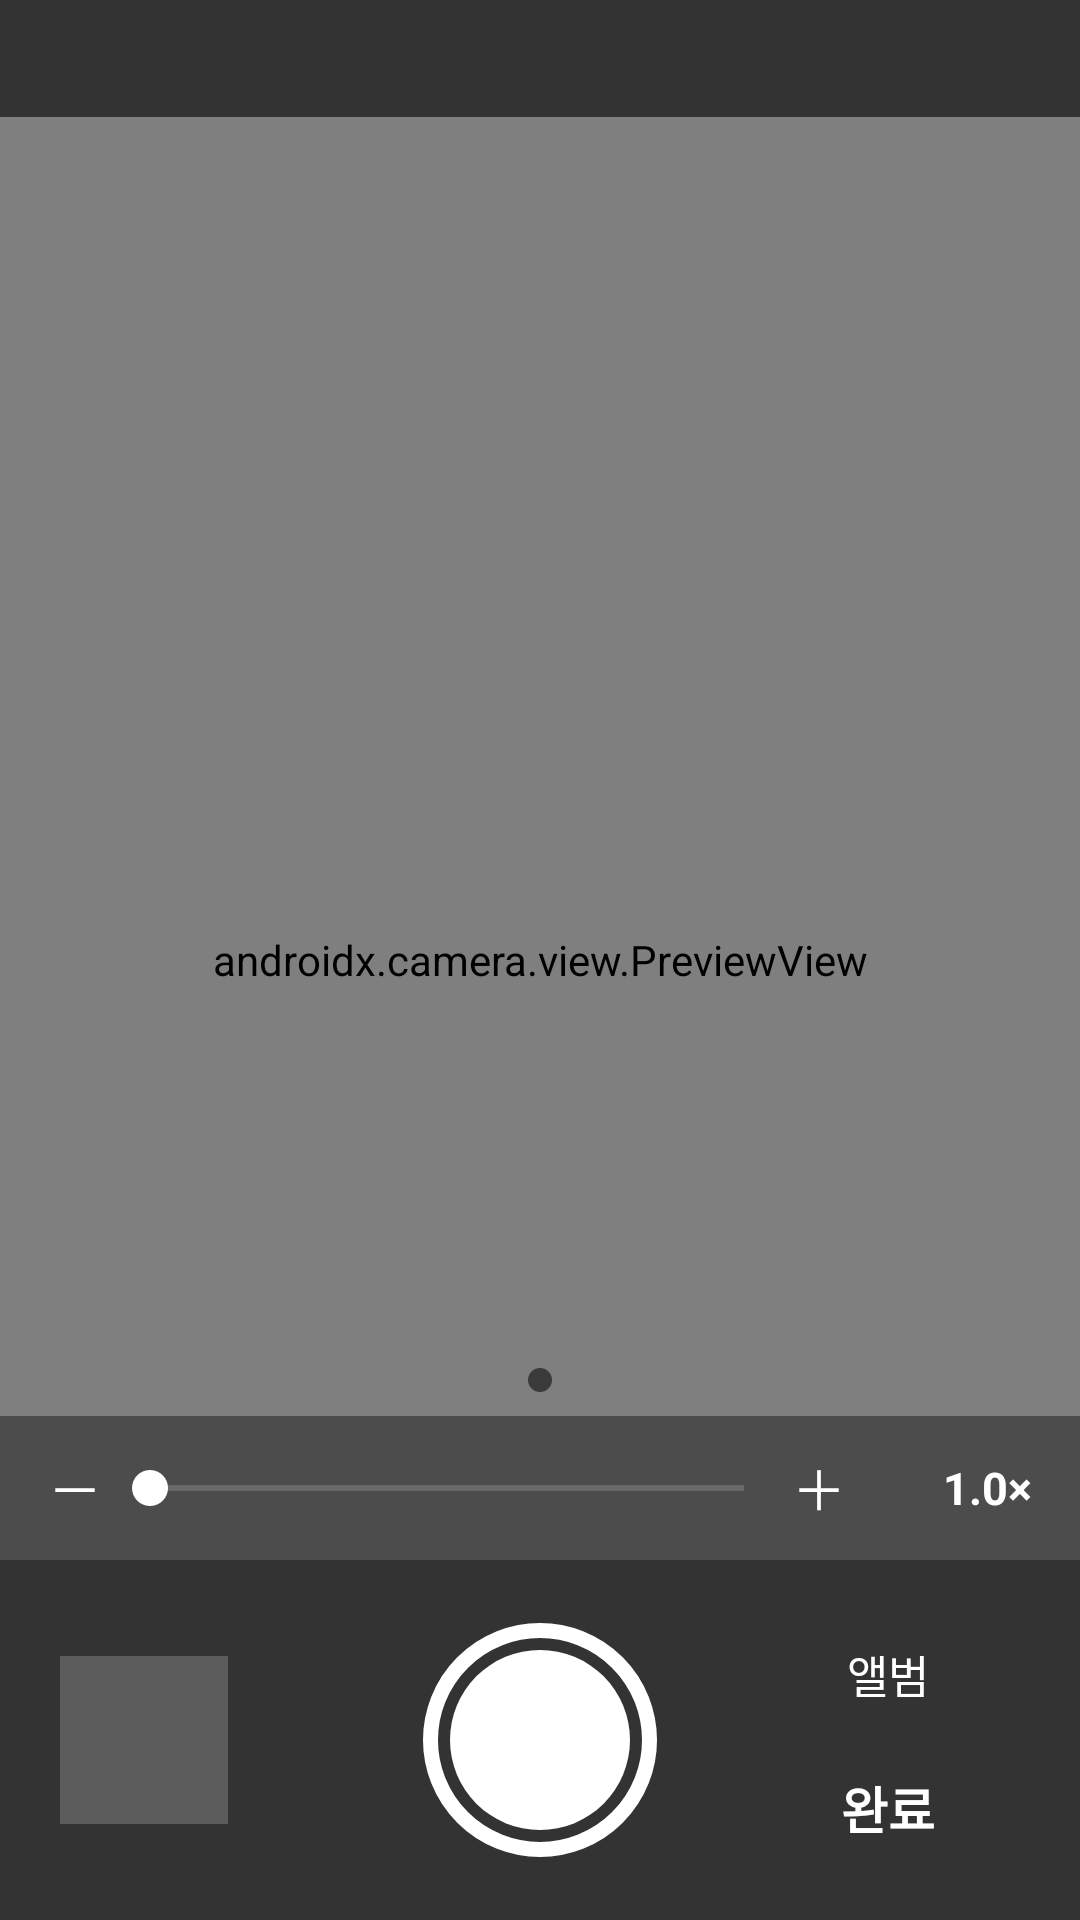

Screen size 1080 x 1920. Icon name, then its center in pixels as (x=x, y=y):
촬영: (x=540, y=1740)
